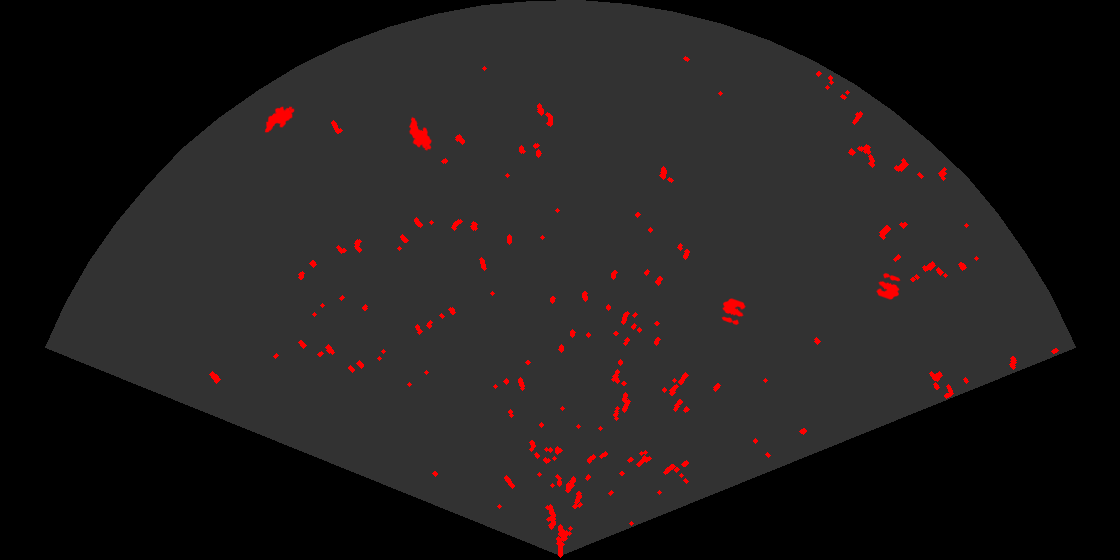AUV: (407, 115, 434, 152), (263, 105, 296, 135)
ball: (874, 271, 902, 301), (720, 297, 748, 327)
